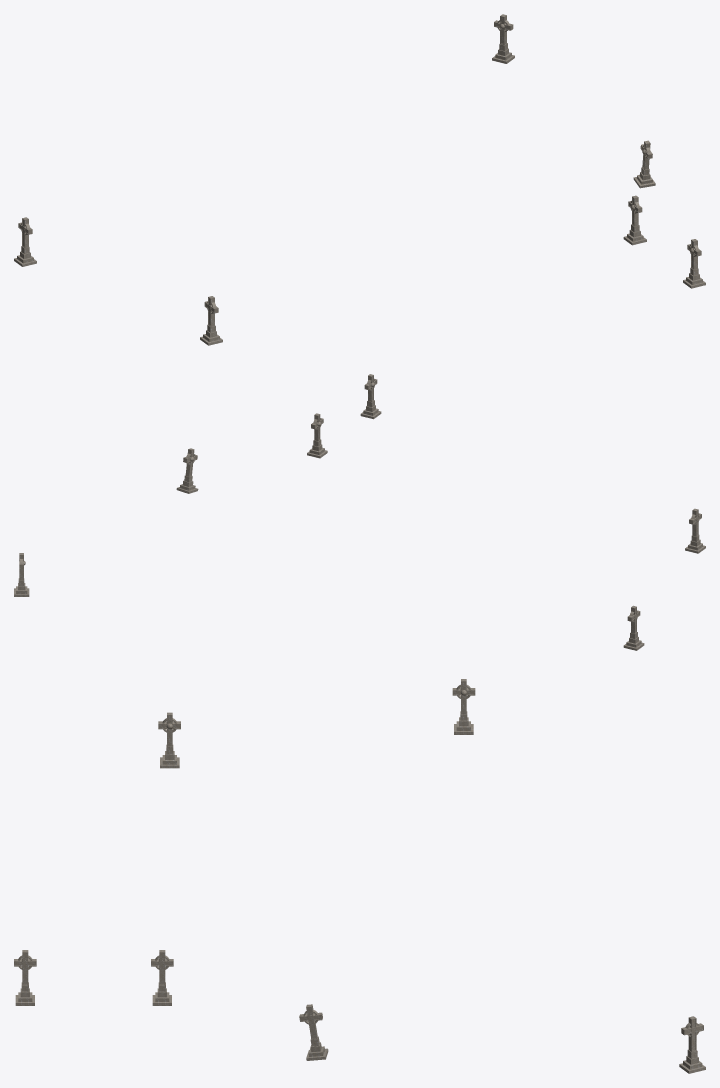
Rendered from material3.016_lev3.glb.
3 renders of one model, top to bottom at view 1: azimuth 30°, elevation 25°; view 2: azimuth 150°, elevation 25°; view 3: azimuth 270°, elevation 25°, orthographic. The views are drawn at different scales.
Visible parts, largest first — view 1: material3.016_lev3; view 2: material3.016_lev3; view 3: material3.016_lev3.
Part boxes in pixels (left/top/right/bottom): material3.016_lev3: left=14, top=14, right=705, bottom=345; material3.016_lev3: left=14, top=374, right=705, bottom=650; material3.016_lev3: left=14, top=679, right=705, bottom=1073.
Size of the model in its own units: 2.82 by 0.2476 by 2.46.
1 material, 1 textured.
